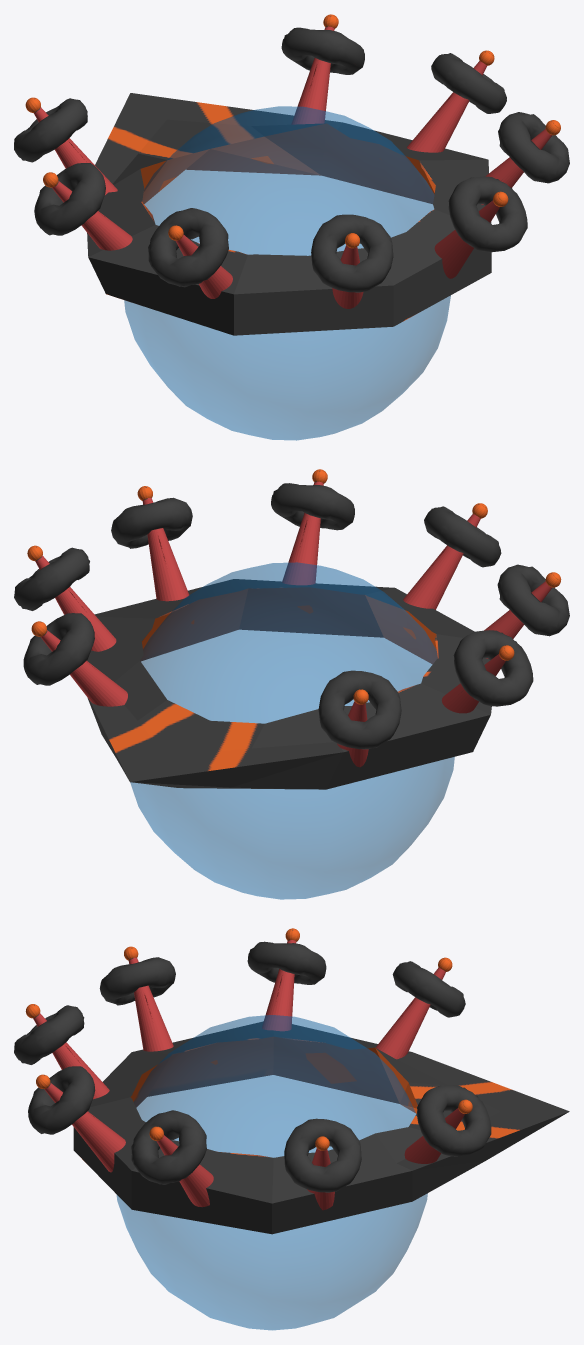
File: player_vehbryo.glb
3 views of the same model, one above another, from view 1: azimuth 30°, elevation 25°; view 2: azimuth 150°, elevation 25°; view 3: azimuth 270°, elevation 25° (orthographic). The views are drawn at different scales.
Visible parts, largest first — view 1: wheel, veh_body, Tesla_column; view 2: wheel, veh_body, Tesla_column; view 3: wheel, veh_body, Tesla_column.
Part boxes in pixels (<box>): wheel: <box>124,106,450,440</box>; veh_body: <box>87,93,491,335</box>; Tesla_column: <box>14,14,569,308</box>; wheel: <box>130,562,454,899</box>; veh_body: <box>87,579,491,789</box>; Tesla_column: <box>14,469,569,767</box>; wheel: <box>116,1015,427,1330</box>; veh_body: <box>73,1021,569,1234</box>; Tesla_column: <box>14,928,491,1210</box>.
Size of the model in its own units: 3.95 by 2.39 by 4.2.
3 materials, 2 textured.
